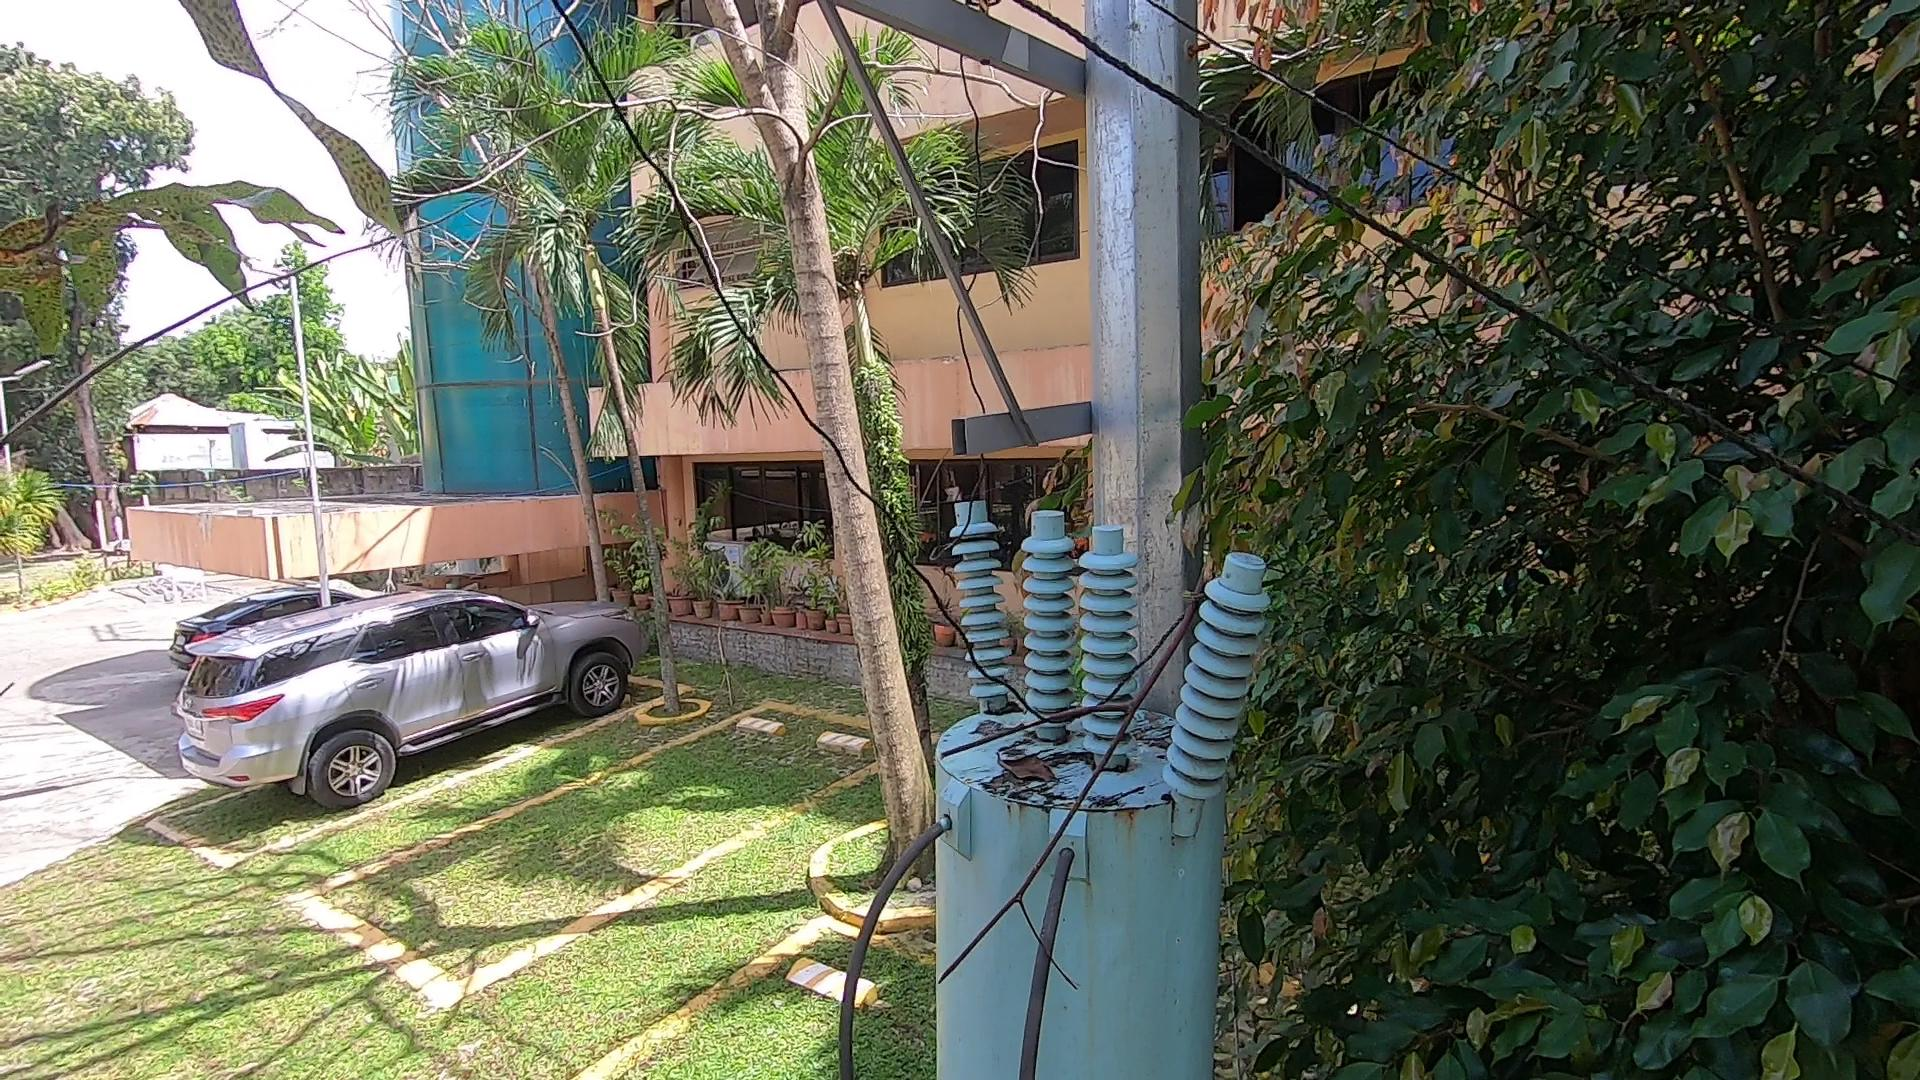leaf: (990, 741, 1058, 807)
tree branch: (905, 546, 1215, 1007)
